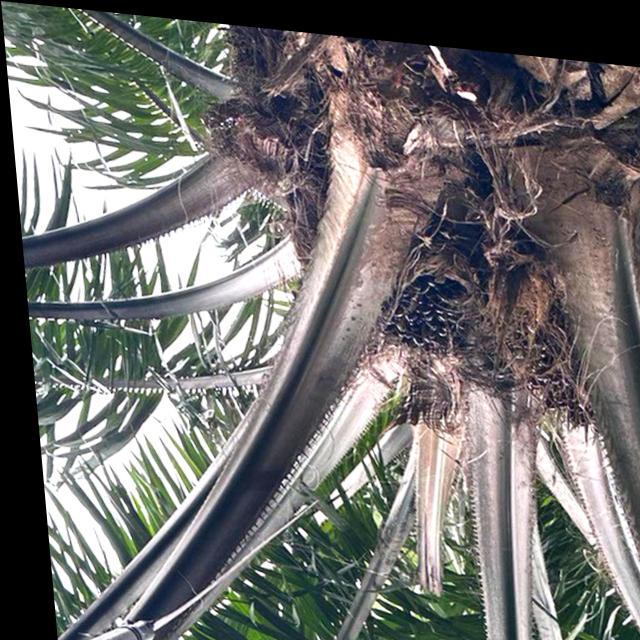unripe: (469, 222, 615, 428), (344, 186, 491, 384)
